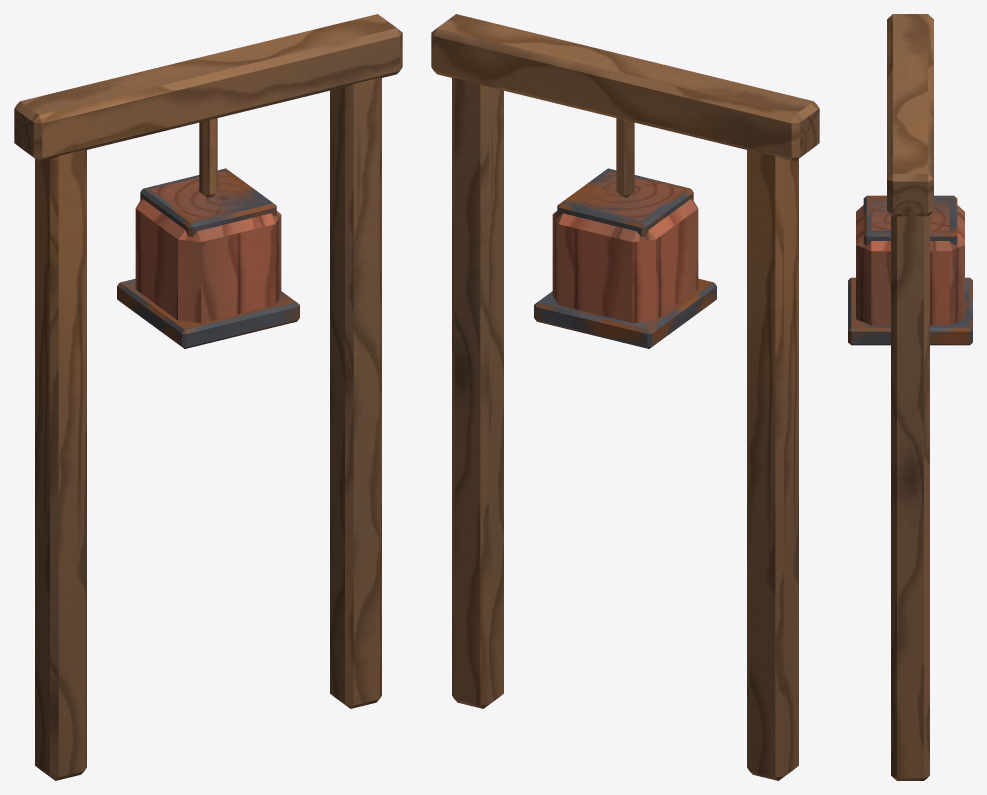
The model's file is ahir_zili.glb.
3 renders of one model, left to right at view 1: azimuth 30°, elevation 25°; view 2: azimuth 150°, elevation 25°; view 3: azimuth 270°, elevation 25°, orthographic. The views are drawn at different scales.
Visible parts, largest first — view 1: ahir_zili; view 2: ahir_zili; view 3: ahir_zili.
Part boxes in pixels (x1,y1,x2,y2): ahir_zili: [14, 14, 402, 780]; ahir_zili: [431, 14, 819, 780]; ahir_zili: [848, 14, 972, 780].
Size of the model in its own units: 1 by 1.74 by 0.32.
Materials: 1 (1 with a texture image).
